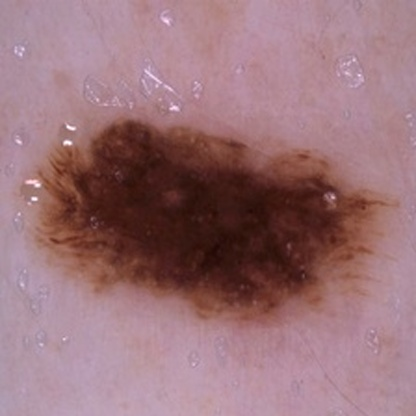malignant: (49, 133, 363, 310)
